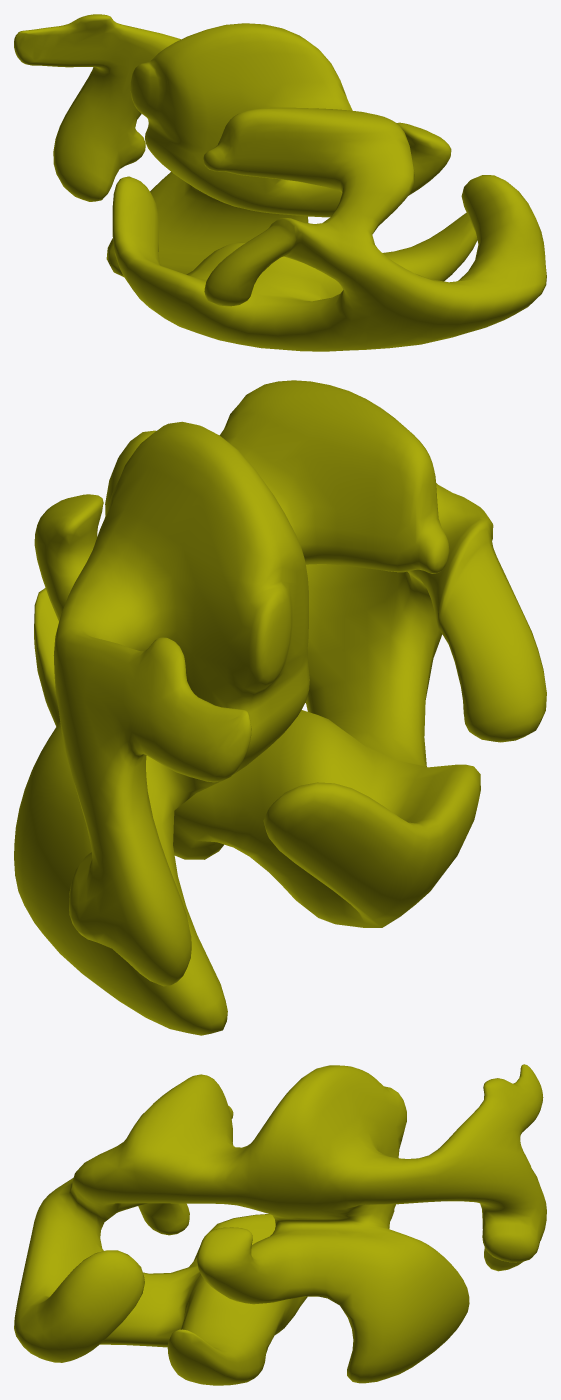
File: Rotation8Duck.fbx
3 renders of one model, top to bottom at view 1: azimuth 30°, elevation 25°; view 2: azimuth 150°, elevation 25°; view 3: azimuth 270°, elevation 25°, orthographic. The views are drawn at different scales.
Visible parts, largest first — view 1: Result.002; view 2: Result.002; view 3: Result.002.
Part boxes in pixels (box(x1,y1,x2,y2)): Result.002: box(14, 14, 546, 351); Result.002: box(14, 380, 546, 1035); Result.002: box(14, 1064, 546, 1385).
Size of the model in its own units: 9693 by 8959 by 14842.
